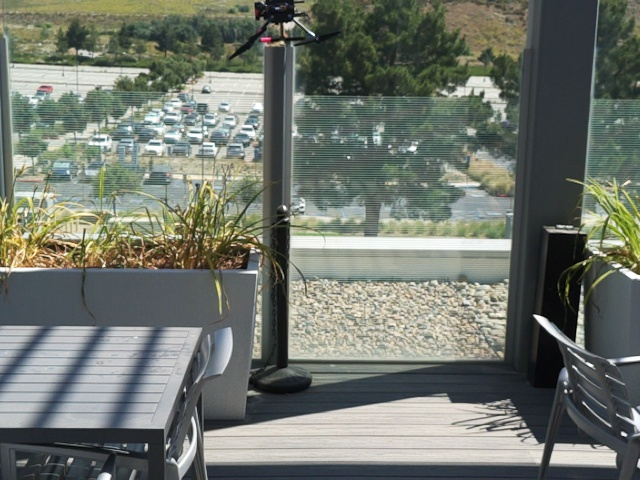quadcopter: (227, 1, 345, 69)
